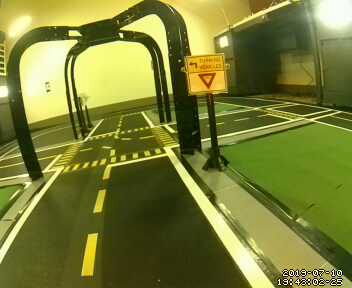Turn Yield: (180, 52, 230, 99)
